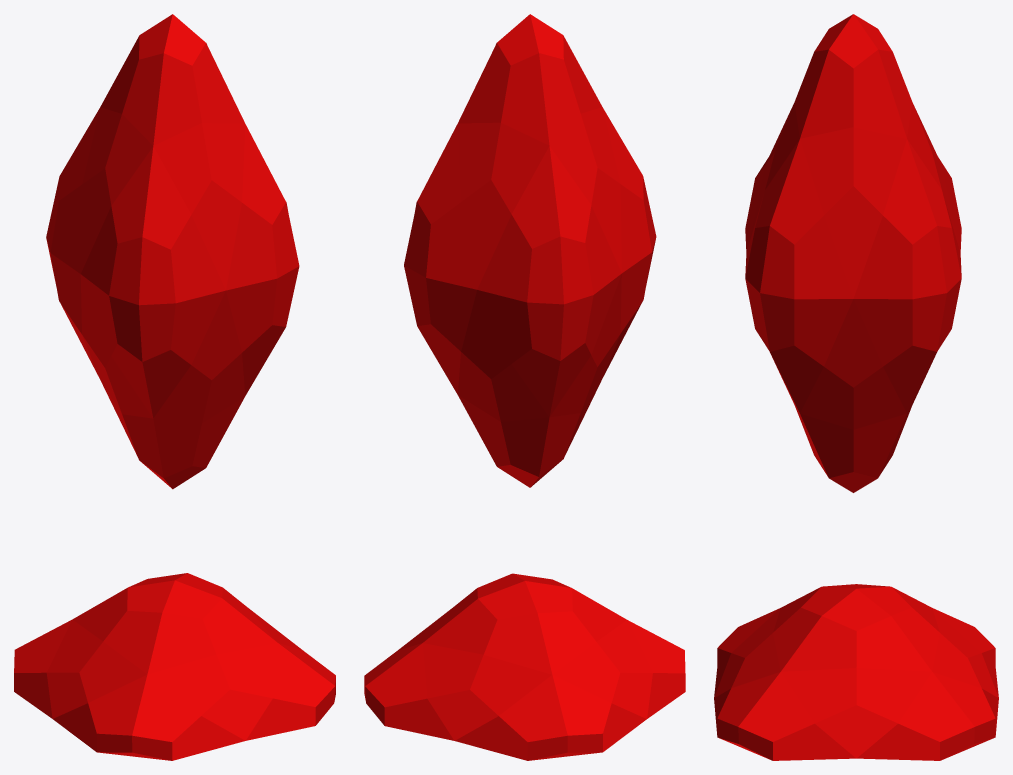
The model's file is torreRedonda001.fbx.
3 renders of one model, left to right at view 1: azimuth 30°, elevation 25°; view 2: azimuth 150°, elevation 25°; view 3: azimuth 270°, elevation 25°, orthographic.
Parts seen in each view (by area): view 1: TorreRedonda; view 2: TorreRedonda; view 3: TorreRedonda.
Boxes of the visible parts, x1,y1,x2,y2 form: TorreRedonda: (14,14,335,760); TorreRedonda: (364,14,685,760); TorreRedonda: (714,14,998,760).
Bounding box in the file's own units: 56.32 × 151 × 56.32.
